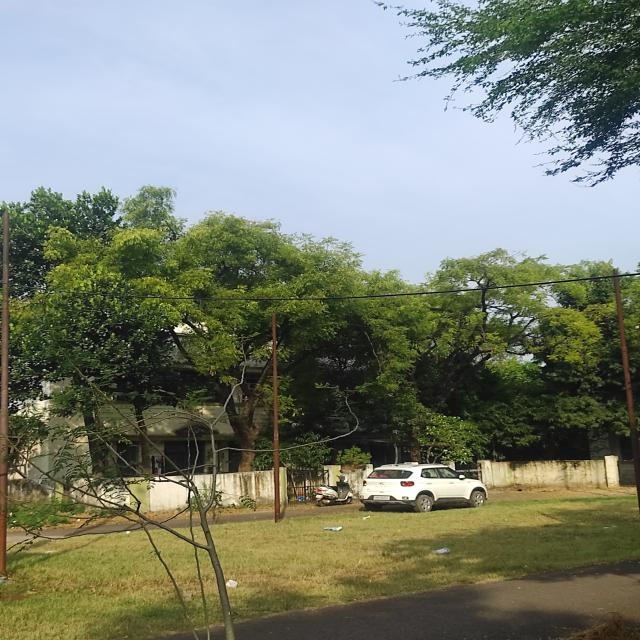Neem Tree: (144, 229, 392, 465)
